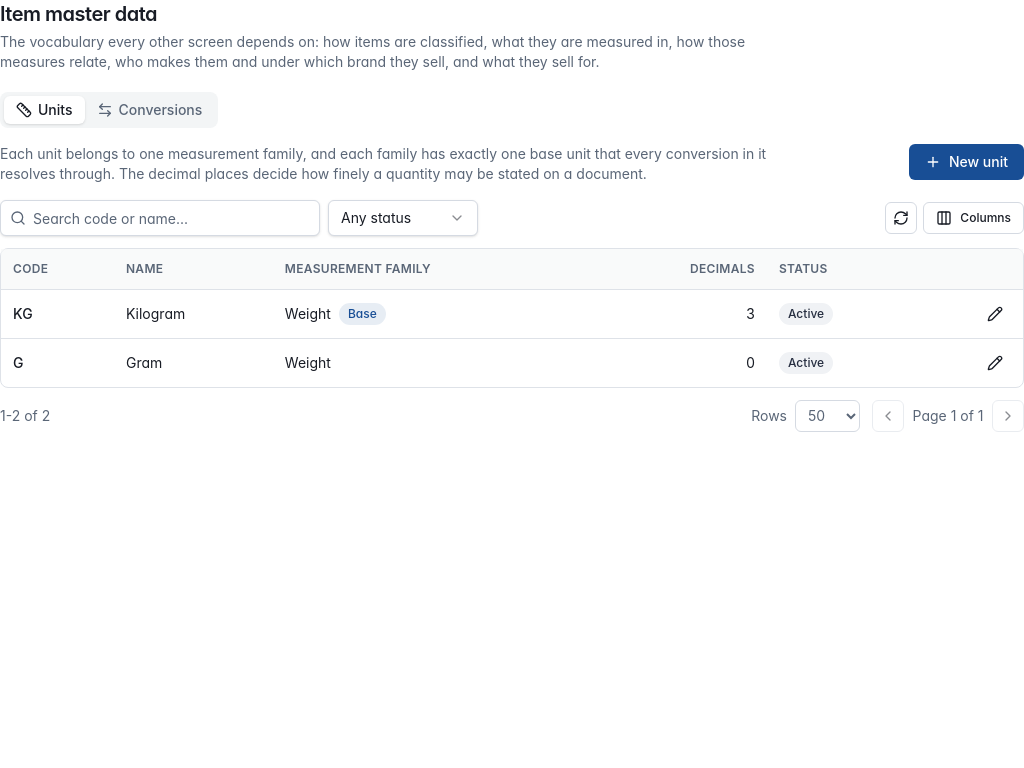
units of measure › refuses more than six decimal places before the round trip
Expected: the text "Kilogram" is shown, 114,289 -> 273,338
Click the button "New unit" at (966, 162), box 909,144 -> 1023,180
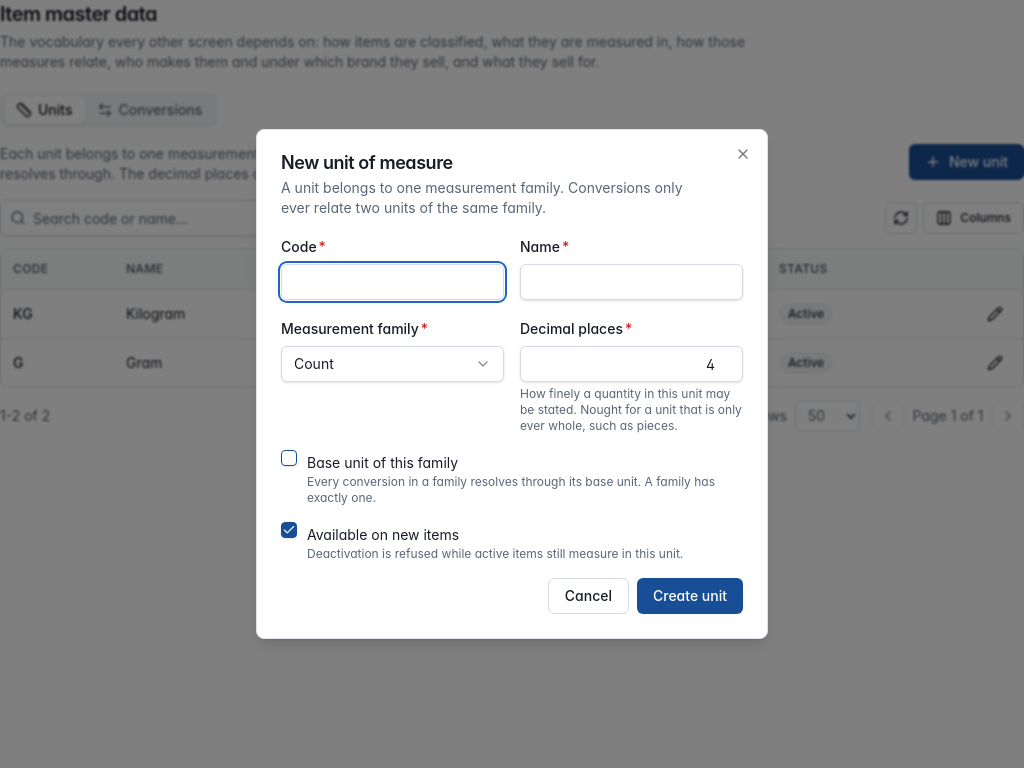
Type "X" into the field labelled "Code" at (392, 282), box 281,264 -> 504,300
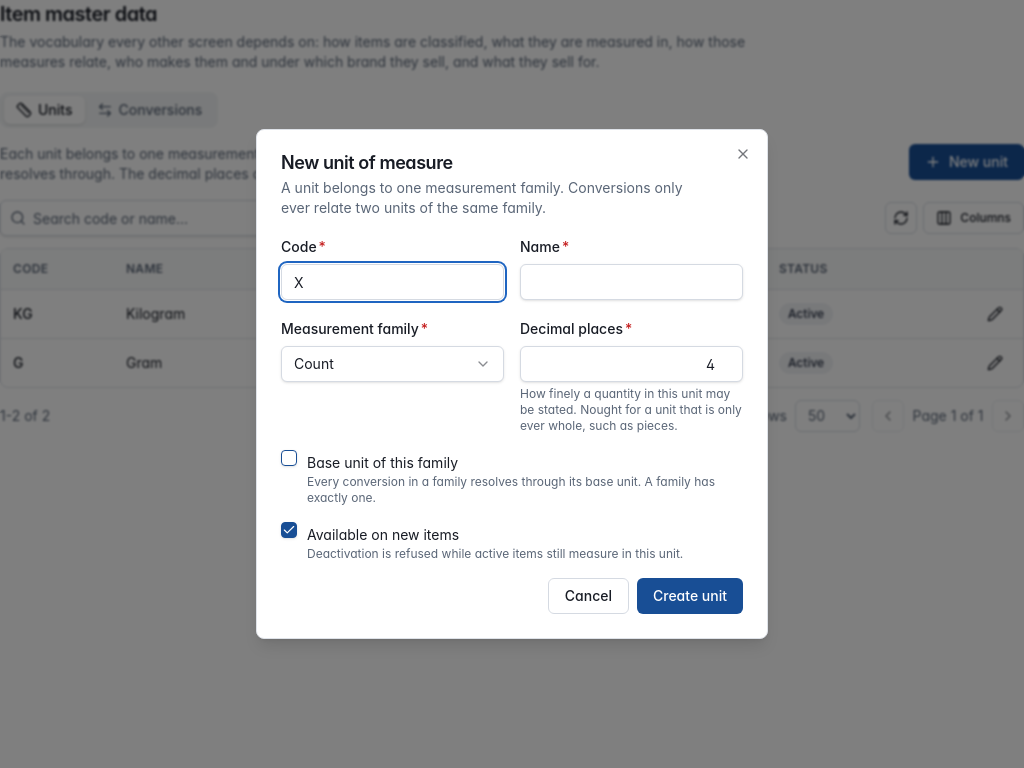
Type "Excess" into the field labelled "Name" at (632, 282), box 520,264 -> 743,300
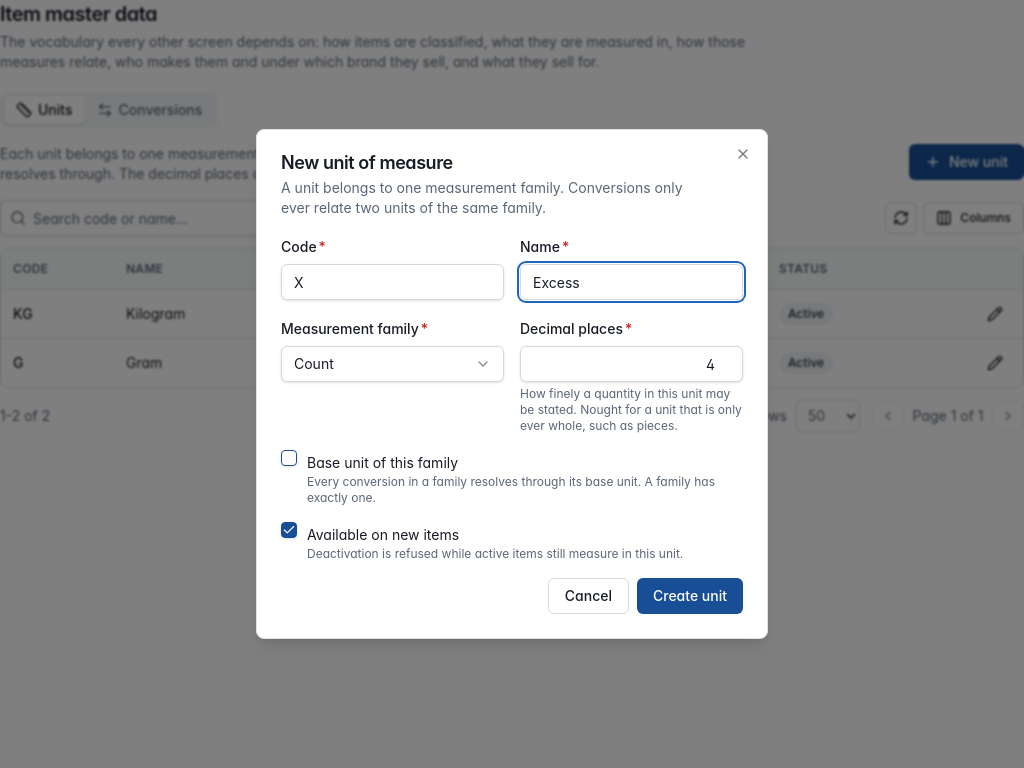
Replace the text in the number field labelled "Decimal places" with "9" at (632, 364), box 520,346 -> 743,382
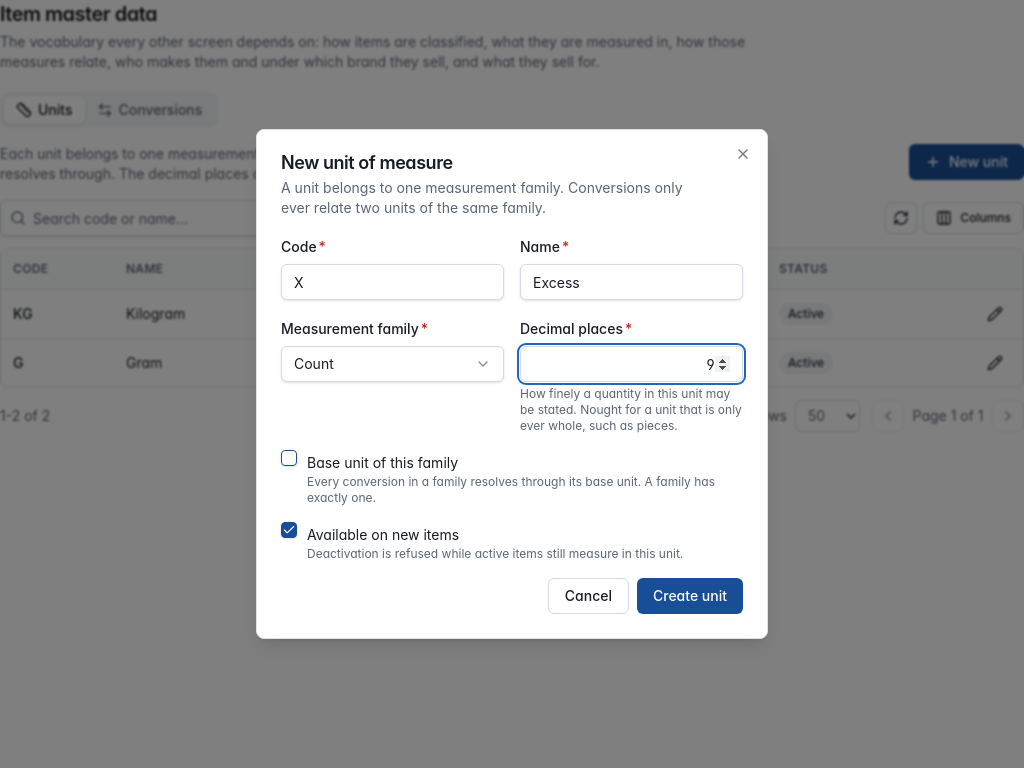
Click the button "Create unit" at (690, 596), box 637,578 -> 743,614
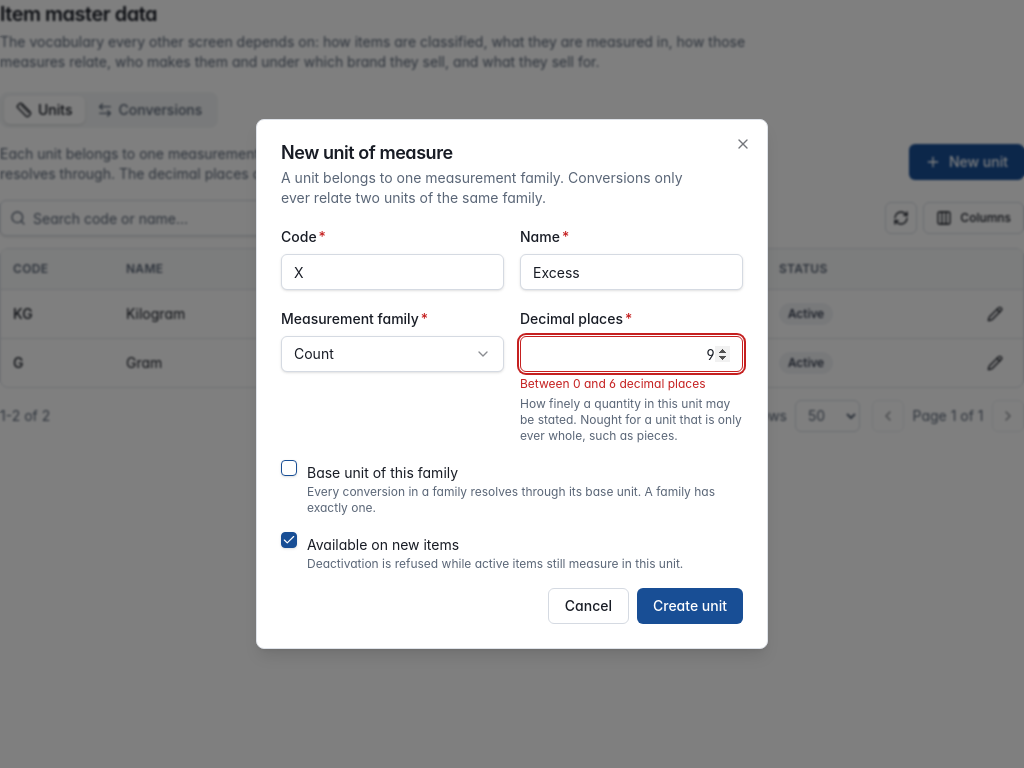
Expected: the text "Between 0 and 6 decimal places" is shown, 520,376 -> 706,391
